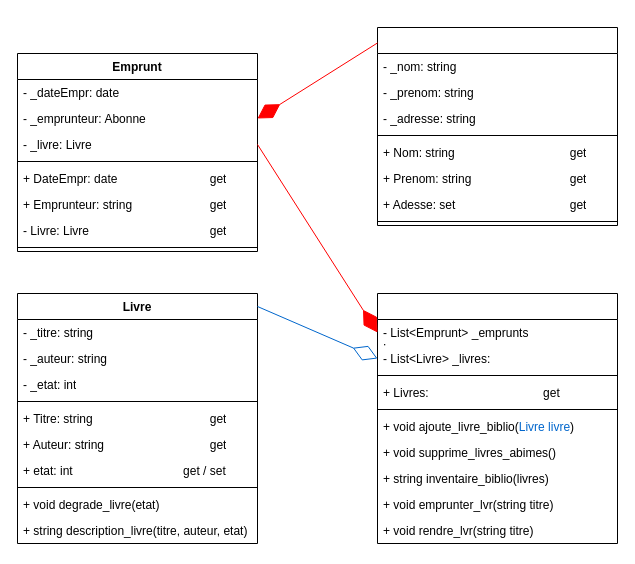
This 635x564 diagram has some shape labels left out. The shapes that lost their labels are listed below. From the top down, each one's box as (x1, y1, x2, y2) in pixels, then its label:
(376, 26, 618, 226): Abonne
(376, 292, 618, 544): Bibliotheque
